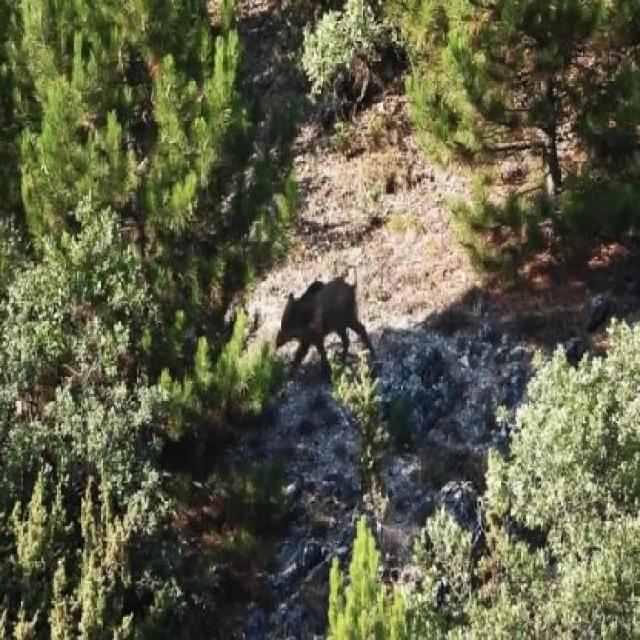pig: (271, 268, 392, 404)
